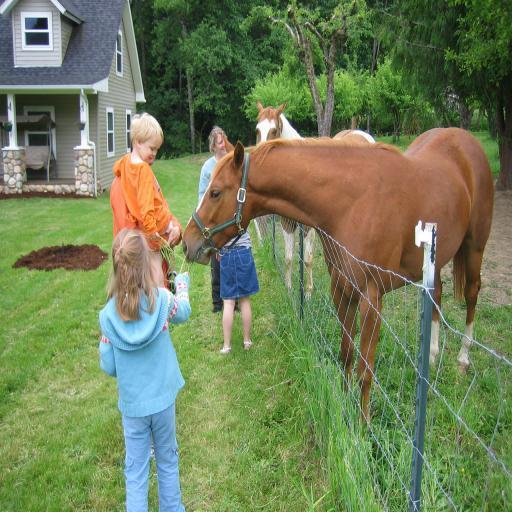horse: (180, 124, 494, 432), (253, 97, 376, 303)
